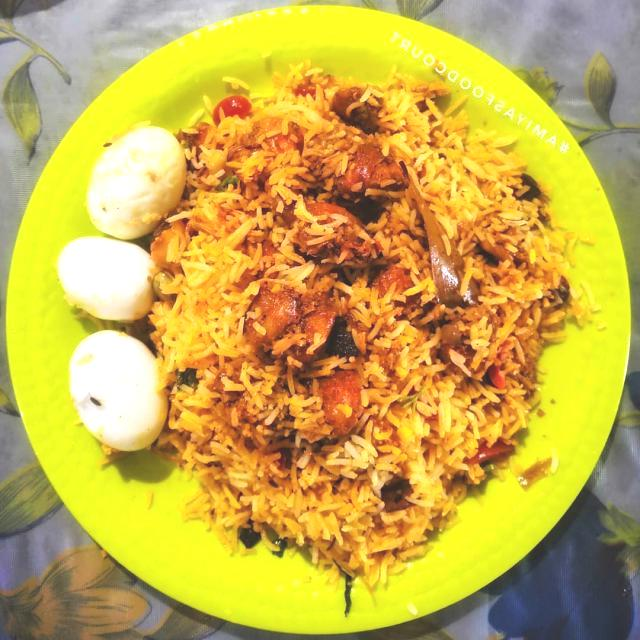biryani: (172, 58, 546, 592)
